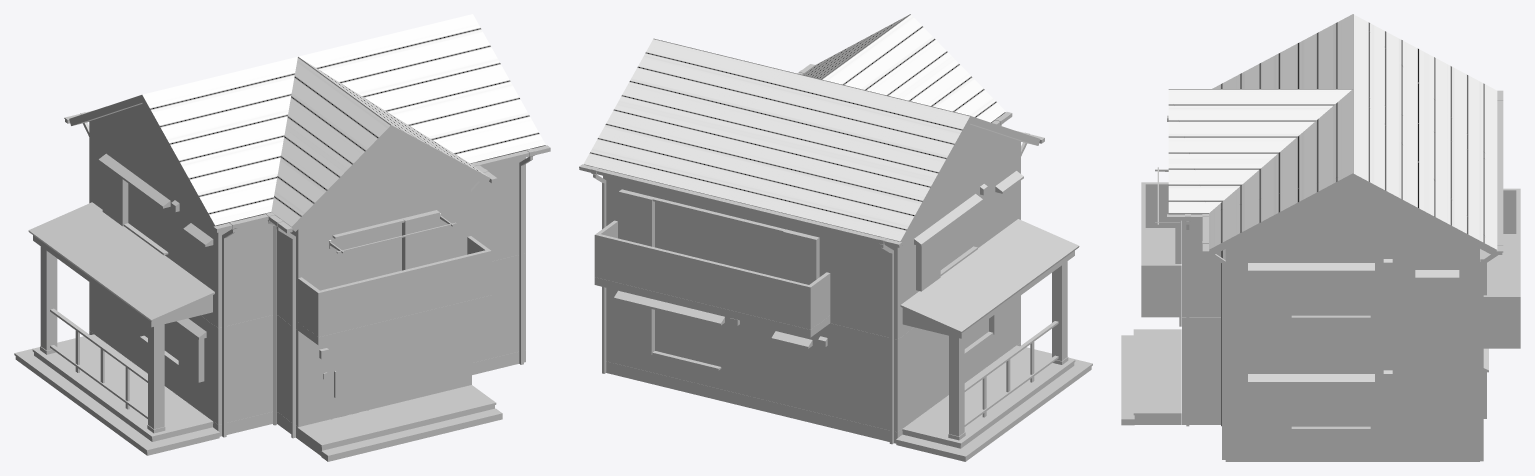
Rendered from House_2021_S.fbx.
The picture shows the model from 3 angles, left to right: view 1: azimuth 30°, elevation 25°; view 2: azimuth 150°, elevation 25°; view 3: azimuth 270°, elevation 25°; orthographic projection. The views are drawn at different scales.
Parts seen in each view (by area): view 1: House_2021_S; view 2: House_2021_S; view 3: House_2021_S.
Part boxes in pixels (box(x1,y1,x2,y2)): House_2021_S: box(14, 14, 550, 461); House_2021_S: box(579, 14, 1092, 461); House_2021_S: box(1121, 14, 1520, 461).
Bounding box in the file's own units: 1023 × 740 × 910.
